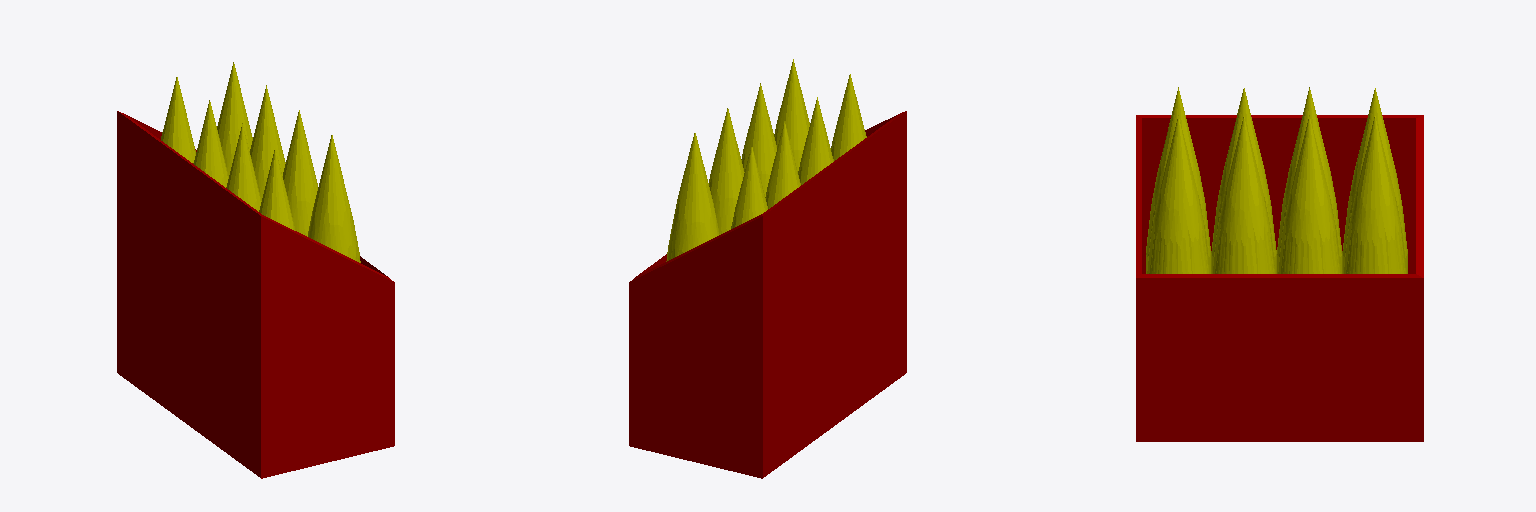
File: bullet.obj
3 renders of one model, left to right at view 1: azimuth 30°, elevation 25°; view 2: azimuth 150°, elevation 25°; view 3: azimuth 270°, elevation 25°, orthographic.
Visible parts, largest first — view 1: Cube.001_Cube.002, Cylinder.003_Cylinder.006; view 2: Cube.001_Cube.002, Cylinder.003_Cylinder.006; view 3: Cube.001_Cube.002, Cylinder.003_Cylinder.006.
Part boxes in pixels (x1,y1,x2,y2): Cube.001_Cube.002: (117,111,394,478); Cylinder.003_Cylinder.006: (161,62,360,262); Cube.001_Cube.002: (629,111,906,478); Cylinder.003_Cylinder.006: (666,59,866,261); Cube.001_Cube.002: (1136,115,1423,441); Cylinder.003_Cylinder.006: (1146,87,1407,273).
Size of the model in its own units: 4.69 by 10.36 by 8.79.